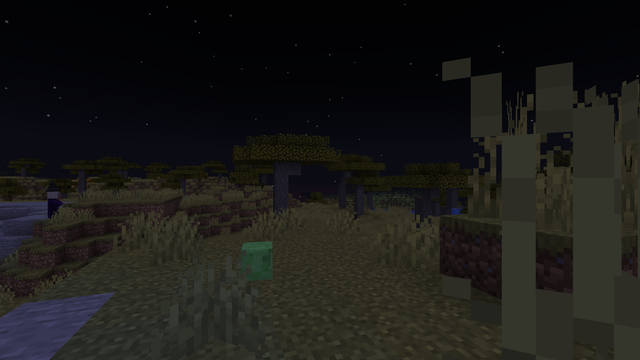slimes: (240, 239, 274, 281)
sorcieres: (44, 190, 61, 221)
